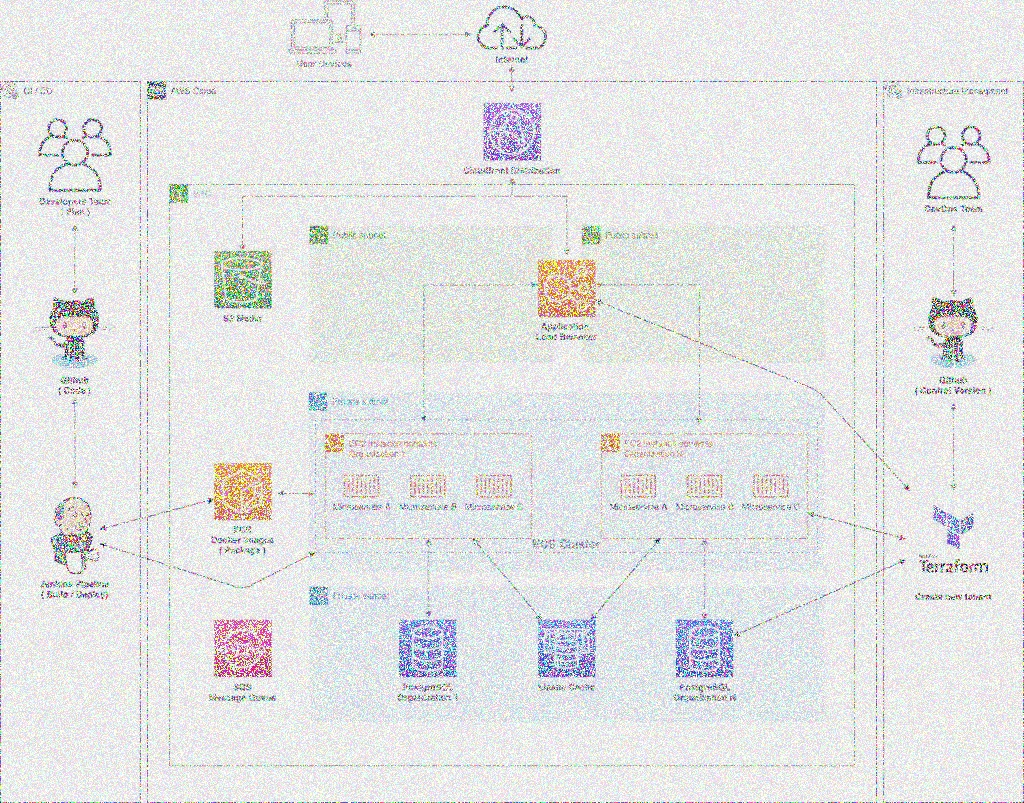ALB: (538, 258, 596, 318)
Cloudfront: (484, 101, 542, 160)
Container: (339, 470, 389, 501), (617, 470, 662, 502), (474, 471, 517, 502), (683, 470, 727, 500), (408, 470, 451, 500), (751, 473, 796, 500)
Dynamo DB: (389, 615, 468, 682), (672, 612, 741, 683)
EC2: (324, 430, 347, 454), (600, 432, 622, 454)
ElastiCache: (538, 618, 596, 676)
Elastic Container Registry: (213, 461, 272, 521)
Github: (32, 295, 120, 371), (912, 296, 999, 371)
Internet: (475, 0, 559, 55)
Private Subnet: (309, 586, 329, 606), (308, 391, 327, 411)
Public Subnet: (581, 225, 600, 246), (309, 225, 328, 244)
S3: (215, 250, 270, 307)
SQS: (213, 618, 273, 676)
Terraform: (927, 501, 989, 553)
Users: (912, 120, 995, 202), (34, 116, 115, 194)
aws: (148, 80, 166, 99)
